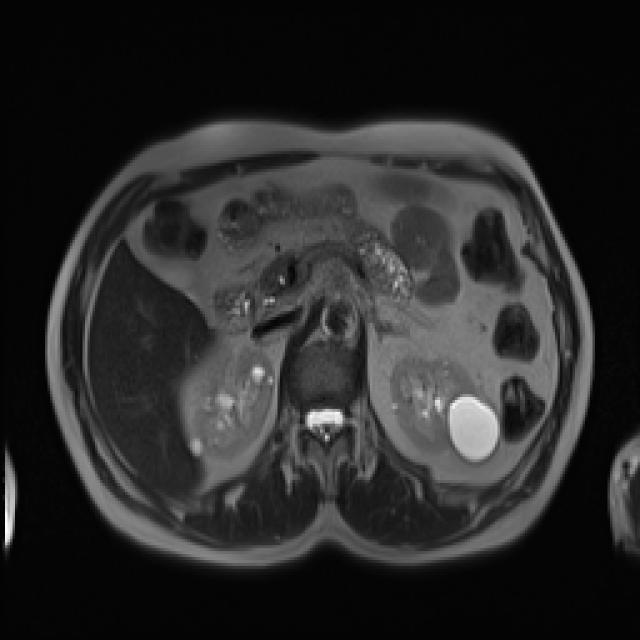sag: (184, 342, 275, 461)
sol: (388, 356, 500, 464)
